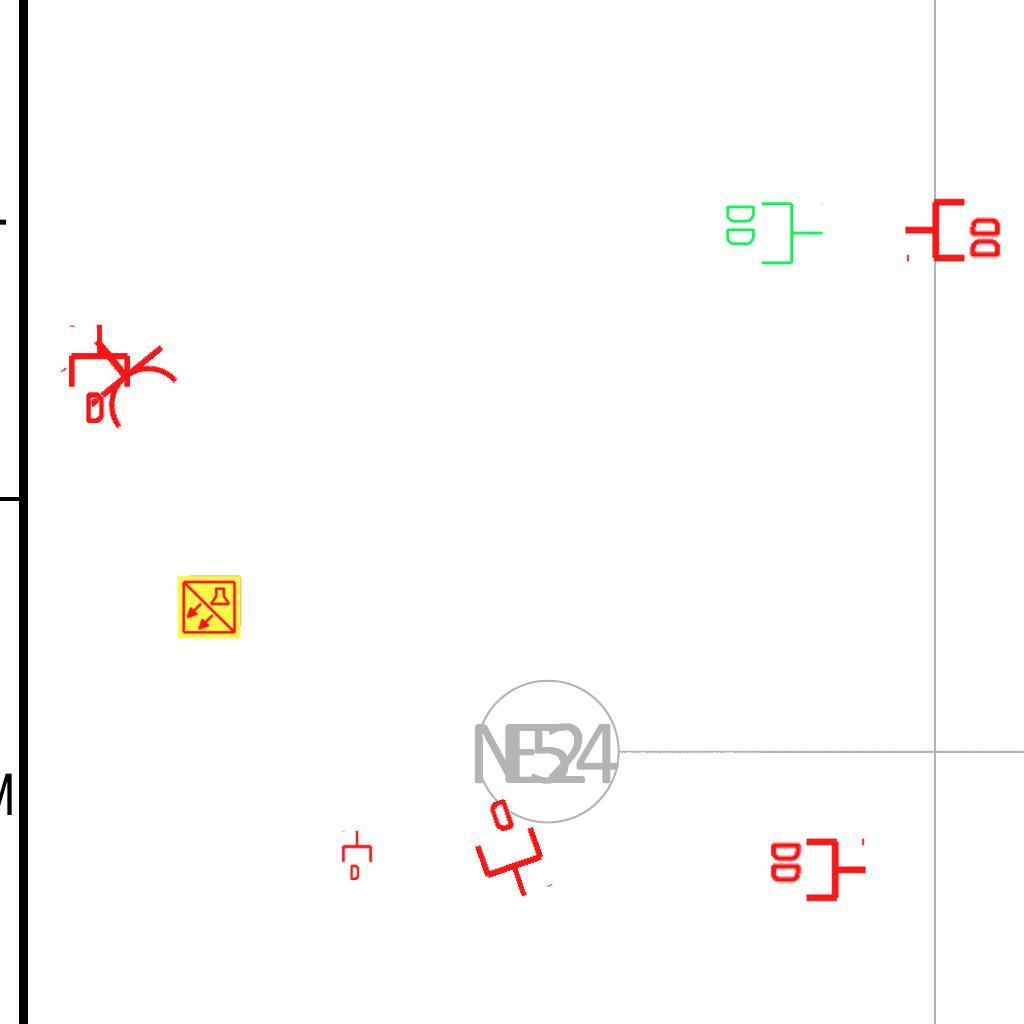Datenanschluss_einfach: (459, 791, 558, 909), (65, 323, 134, 423), (340, 830, 374, 880)
Datenanschluss_zweifach: (722, 198, 825, 267), (902, 194, 1005, 263), (766, 837, 869, 906)
OKW_Multisensormelder_(Kombination_optischer_Rauch-Kahlenmonoxid_Waerme-Melder): (176, 574, 242, 640)
Schukosteckdose_einfach: (55, 308, 188, 440)
